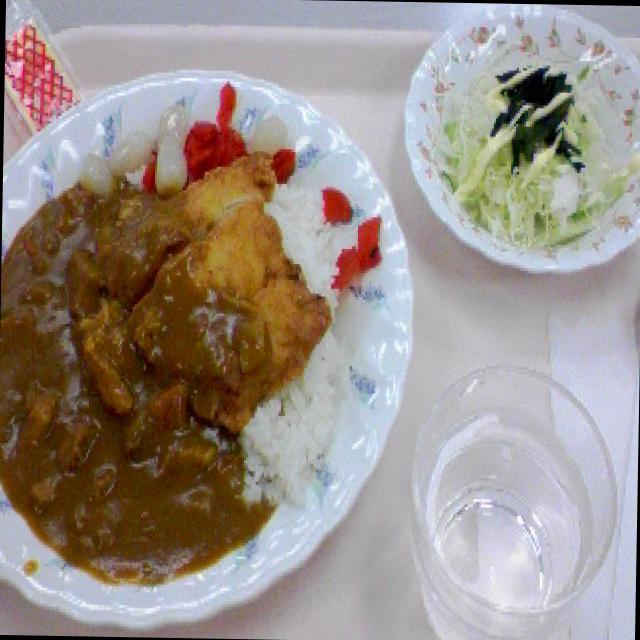Beef Curry: (0, 166, 276, 585)
